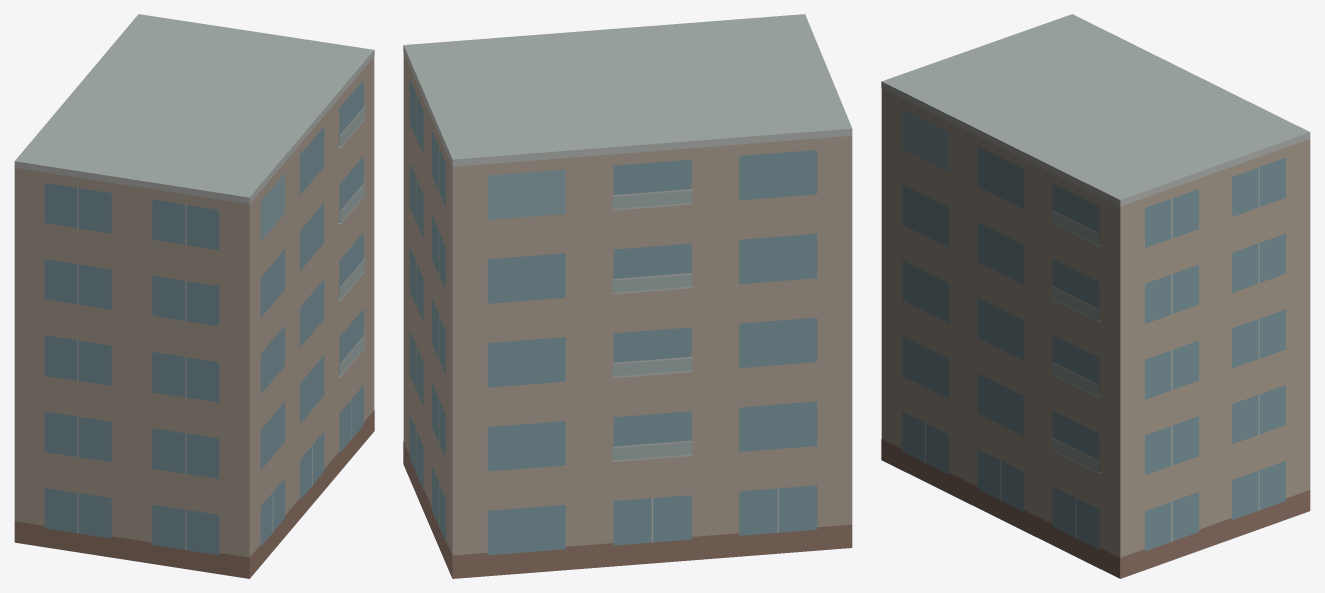
The model's file is survey-upis-32843758.glb.
3 renders of one model, left to right at view 1: azimuth 30°, elevation 25°; view 2: azimuth 150°, elevation 25°; view 3: azimuth 270°, elevation 25°, orthographic. The views are drawn at different scales.
Visible parts, largest first — view 1: survey-upis-32843758.tmp; view 2: survey-upis-32843758.tmp; view 3: survey-upis-32843758.tmp.
Boxes of the visible parts, <box> form: survey-upis-32843758.tmp: <box>14,14,374,578</box>; survey-upis-32843758.tmp: <box>403,14,852,578</box>; survey-upis-32843758.tmp: <box>881,14,1310,578</box>.
Size of the model in its own units: 14.97 by 14.2 by 14.58.
